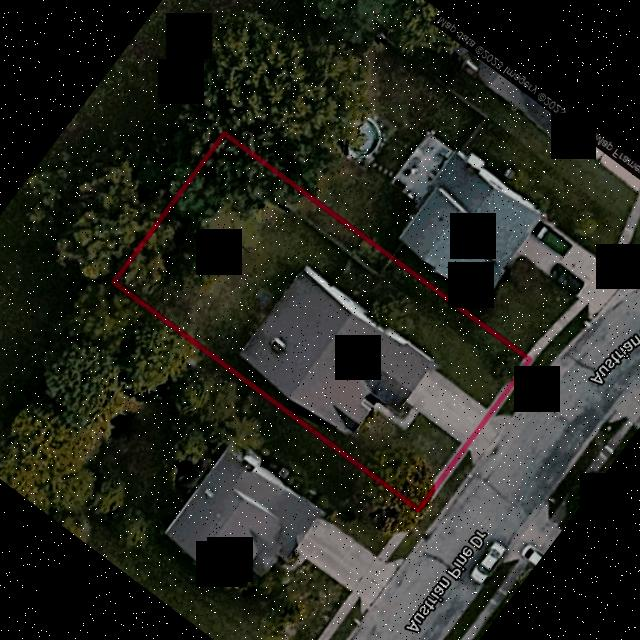Driveway: (373, 369, 488, 443)
Extra Driveway: (468, 414, 511, 465)
Extra Lawn: (422, 448, 474, 522), (494, 359, 546, 415)
Extra Sidewalk: (419, 446, 469, 513), (490, 359, 534, 416)
House: (240, 266, 434, 432)
Sidewalk: (415, 442, 463, 505), (486, 358, 526, 410)
